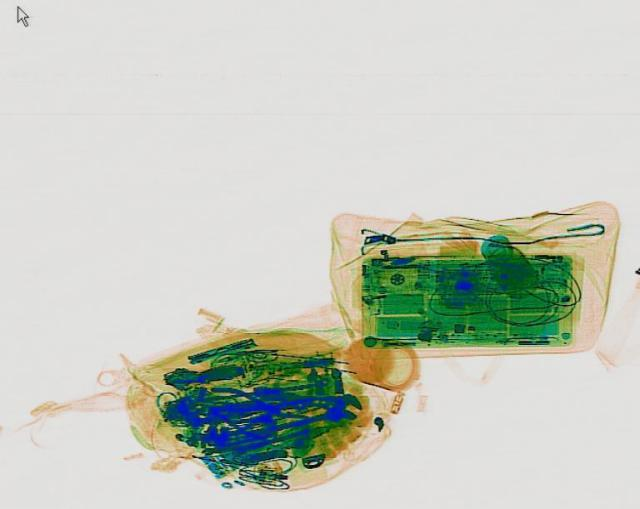Pliers: (207, 383, 301, 432)
Wrench: (249, 374, 367, 424)
